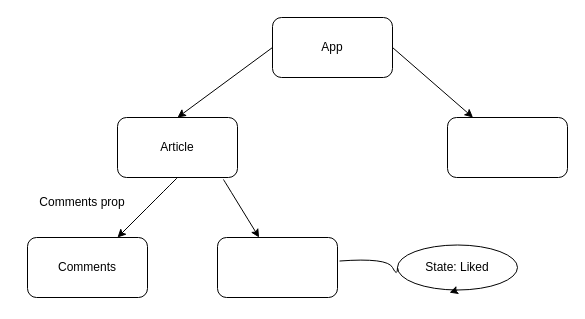
This 585x319 diagram has some shape labels left out. The shapes that lost their labels are listed below. From the top down, each one's centre as x and y in pixels, then its label:
At (x=507, y=147): "H1 Header".
At (x=277, y=267): "Button".
